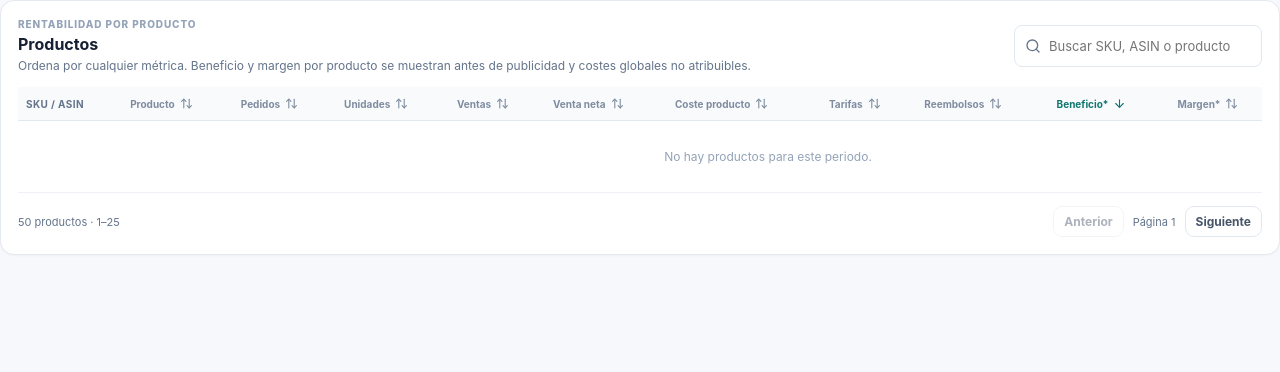
an obsolete Amazon sorting response cannot overwrite a newer reset response
Expected: the text "50 productos · 1–25" is shown, [18, 214, 120, 228]
Click the button "Ventas" at (497, 104), box [457, 97, 537, 110]
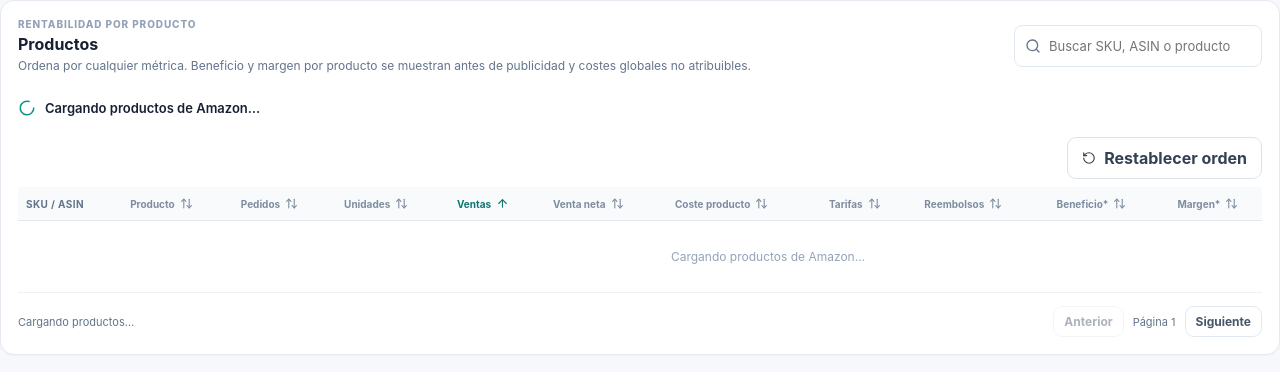
Click the button "Restablecer orden" at (1165, 158), box [1067, 137, 1262, 179]
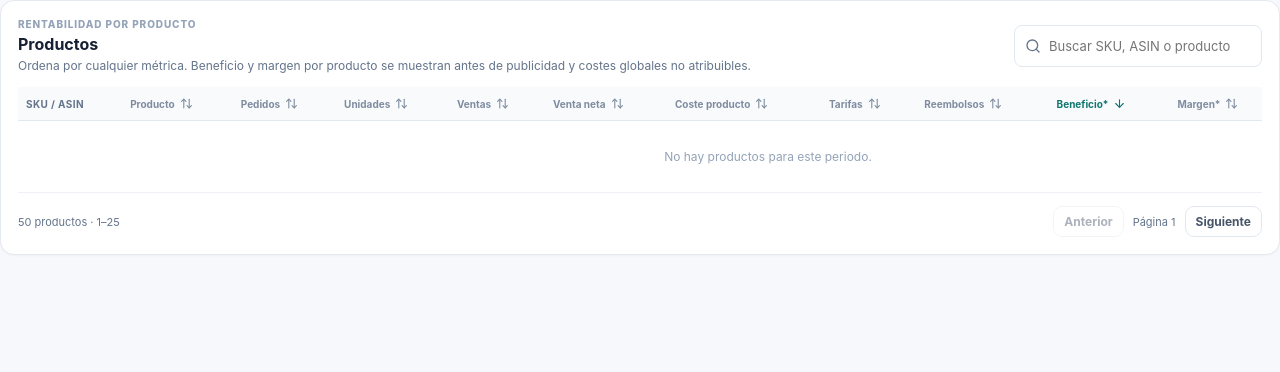
Expected: the text "50 productos · 1–25" is shown, [18, 214, 120, 228]
